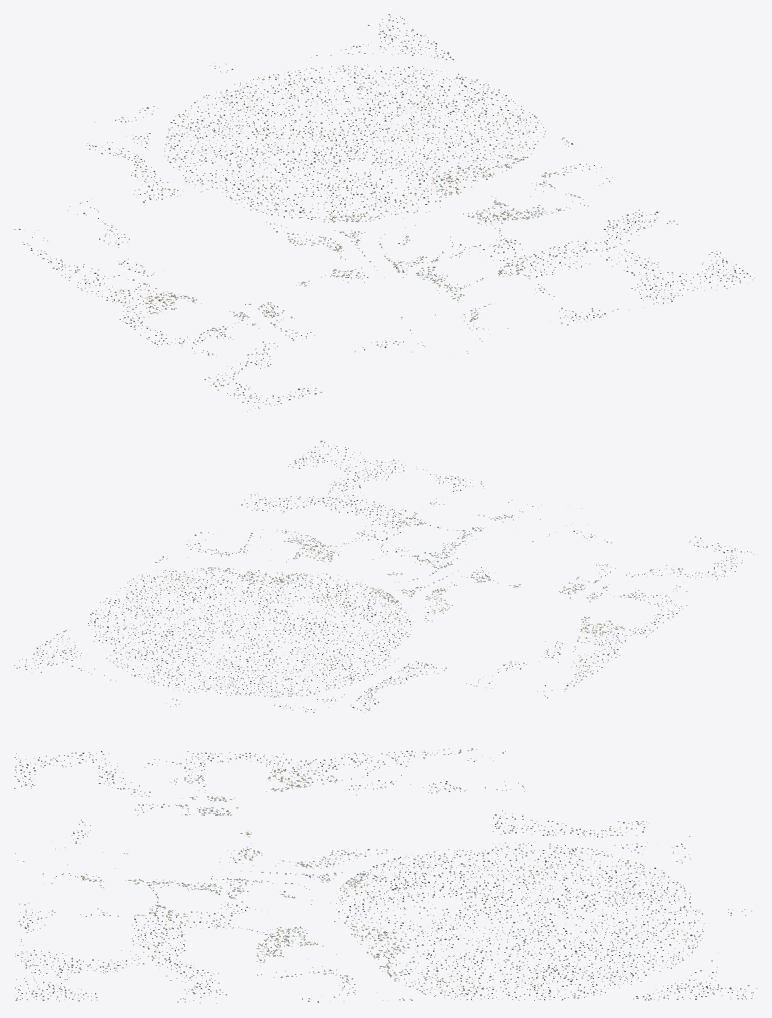
Rendered from south-understory.glb.
The picture shows the model from 3 angles, top to bottom: view 1: azimuth 30°, elevation 25°; view 2: azimuth 150°, elevation 25°; view 3: azimuth 270°, elevation 25°; orthographic projection. The views are drawn at different scales.
Size of the model in its own units: 674 by 20.53 by 827.
